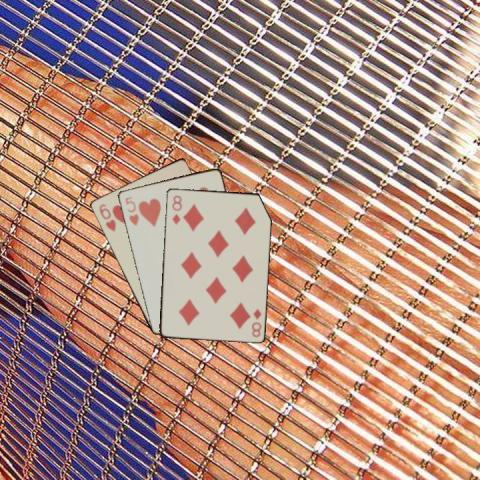5h: (122, 194, 140, 228)
6h: (96, 201, 117, 233)
8d: (168, 192, 182, 226), (249, 305, 262, 339)
